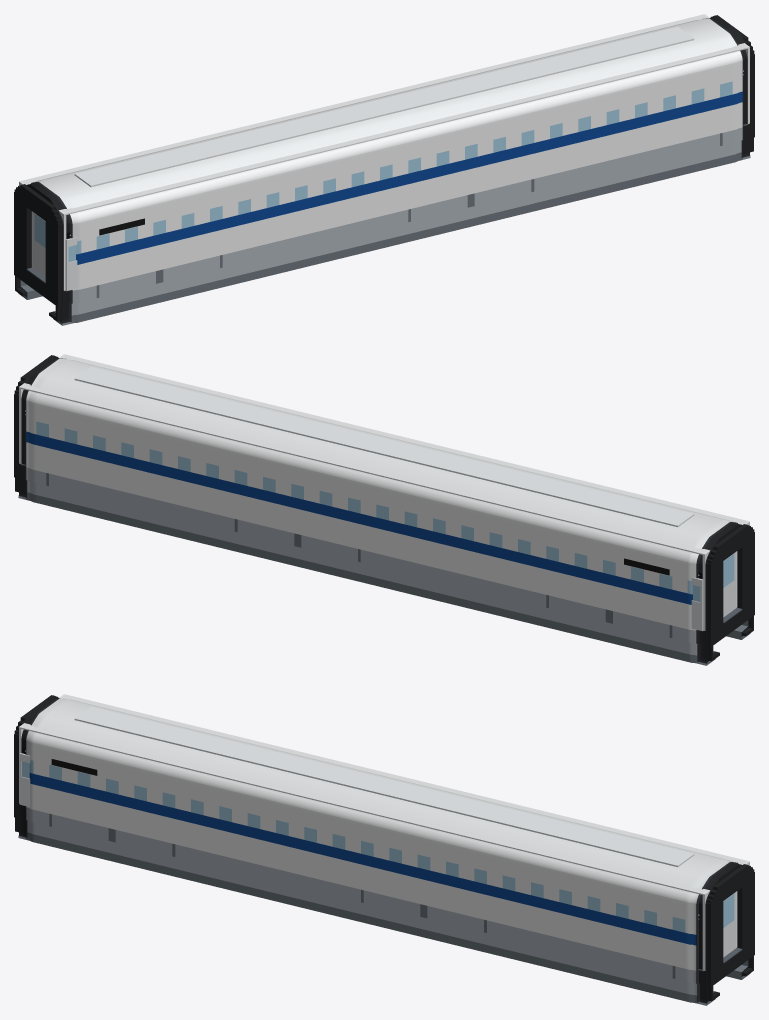
Rendered from l0_car.obj.
The picture shows the model from 3 angles, top to bottom: view 1: azimuth 30°, elevation 25°; view 2: azimuth 150°, elevation 25°; view 3: azimuth 330°, elevation 25°; orthographic projection.
Visible parts, largest first — view 1: SHELL, SHELL_roof, SHELL_ceiling, SHELL_diaphragm, CONNECTING_DOOR_1_CG_CR_TOGGLE_TL_0.98_Z, SHELL_end, EXTERNAL_DOOR_4_CG_DR1_TOGGLE_TL_-0.39_X; view 2: SHELL, SHELL_roof, SHELL_ceiling, SHELL_diaphragm, CONNECTING_DOOR_1_CG_CR_TOGGLE_TL_0.98_Z, SHELL_end, EXTERNAL_DOOR_7_CG_DL1_TOGGLE_TL_-0.39_X; view 3: SHELL, SHELL_roof, SHELL_ceiling, SHELL_diaphragm, CONNECTING_DOOR_2_CG_CF_TOGGLE_TL_0.98_Z, SHELL_end, EXTERNAL_DOOR_4_CG_DR1_TOGGLE_TL_-0.39_X.
Part boxes in pixels (bbox=[...]): SHELL: bbox=[18, 17, 750, 325]; SHELL_roof: bbox=[74, 26, 694, 187]; SHELL_ceiling: bbox=[21, 14, 747, 214]; SHELL_diaphragm: bbox=[14, 15, 754, 321]; CONNECTING_DOOR_1_CG_CR_TOGGLE_TL_0.98_Z: bbox=[33, 212, 45, 277]; SHELL_end: bbox=[19, 14, 749, 290]; EXTERNAL_DOOR_4_CG_DR1_TOGGLE_TL_-0.39_X: bbox=[65, 237, 77, 290]; SHELL: bbox=[18, 357, 750, 665]; SHELL_roof: bbox=[74, 366, 694, 527]; SHELL_ceiling: bbox=[20, 354, 747, 554]; SHELL_diaphragm: bbox=[14, 355, 754, 661]; CONNECTING_DOOR_1_CG_CR_TOGGLE_TL_0.98_Z: bbox=[723, 552, 735, 617]; SHELL_end: bbox=[19, 354, 749, 630]; EXTERNAL_DOOR_7_CG_DL1_TOGGLE_TL_-0.39_X: bbox=[691, 577, 703, 630]; SHELL: bbox=[18, 697, 750, 1005]; SHELL_roof: bbox=[74, 706, 694, 867]; SHELL_ceiling: bbox=[20, 694, 747, 894]; SHELL_diaphragm: bbox=[14, 695, 754, 1001]; CONNECTING_DOOR_2_CG_CF_TOGGLE_TL_0.98_Z: bbox=[723, 892, 735, 957]; SHELL_end: bbox=[19, 694, 749, 970]; EXTERNAL_DOOR_4_CG_DR1_TOGGLE_TL_-0.39_X: bbox=[19, 753, 30, 806].
Size of the model in its own units: 24.62 by 4.03 by 2.92.
1 material, 1 textured.
